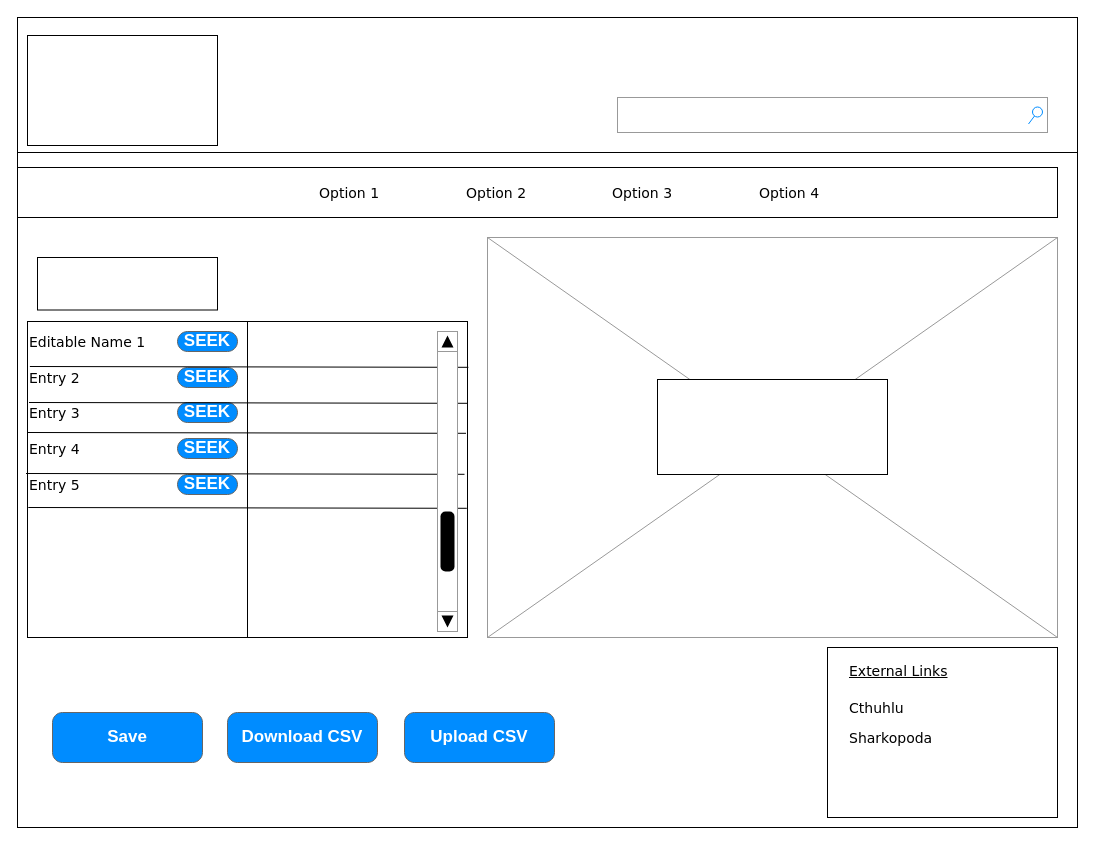
The diagram is 1095 pixels wide and 845 high, and some of its shapes have lost their labels. Each missing label, with the centre of its shape:
"CSV View of Frames" belongs at (772,426).
"Kassogtha Logo" belongs at (122,90).
"Search by Topic" belongs at (832,114).
"Table View" belongs at (127,283).
